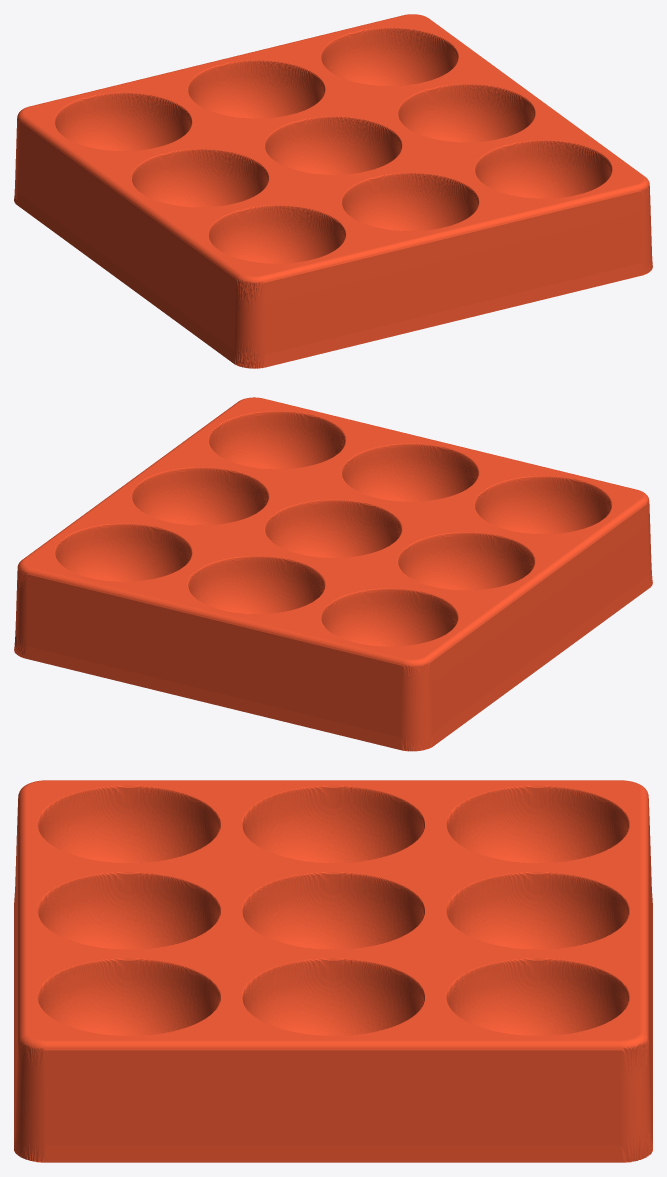
File: mold.glb
3 views of the same model, one above another, from view 1: azimuth 30°, elevation 25°; view 2: azimuth 150°, elevation 25°; view 3: azimuth 270°, elevation 25° (orthographic). The views are drawn at different scales.
Visible parts, largest first — view 1: geometry_0; view 2: geometry_0; view 3: geometry_0.
Part boxes in pixels (x1,y1,x2,y2): geometry_0: (14, 14, 652, 368); geometry_0: (14, 397, 652, 751); geometry_0: (14, 780, 652, 1162).
Bounding box in the file's own units: 0.1804 × 0.0364 × 0.1804.
